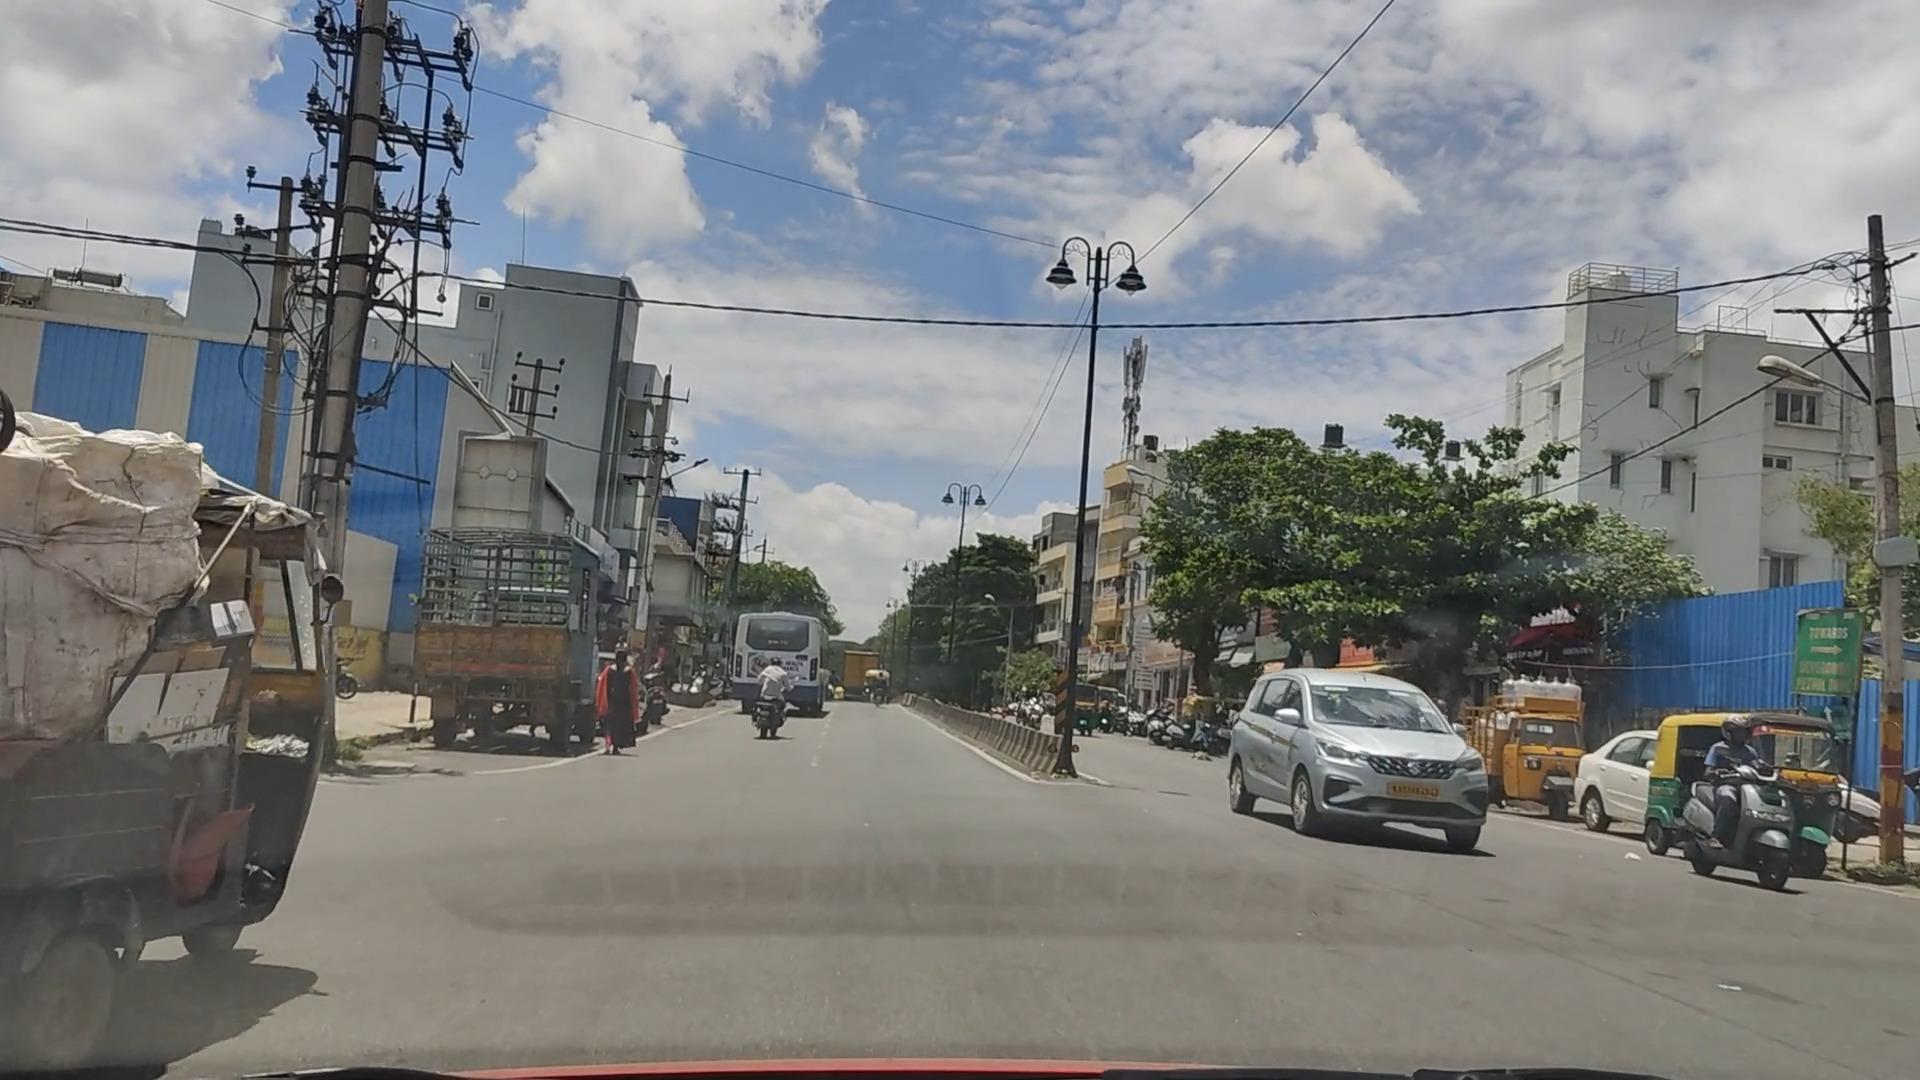LMV: (5, 393, 365, 1075)
